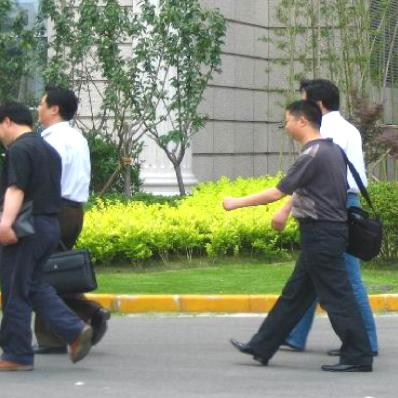ped: (223, 101, 373, 371), (1, 101, 93, 371)
